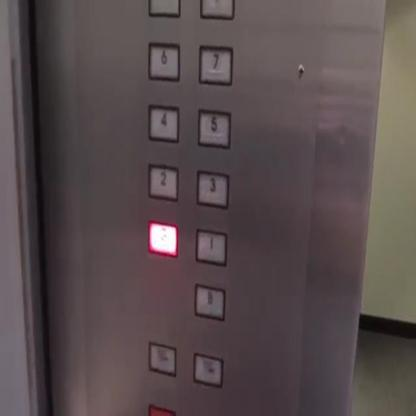1: (195, 226, 227, 266)
2: (147, 162, 178, 200)
3: (196, 169, 229, 209)
4: (148, 103, 179, 142)
5: (198, 108, 232, 149)
6: (148, 41, 179, 82)
7: (198, 43, 232, 85)
B: (194, 280, 226, 321)
blur: (147, 220, 179, 258), (193, 351, 223, 388), (148, 340, 176, 377)
